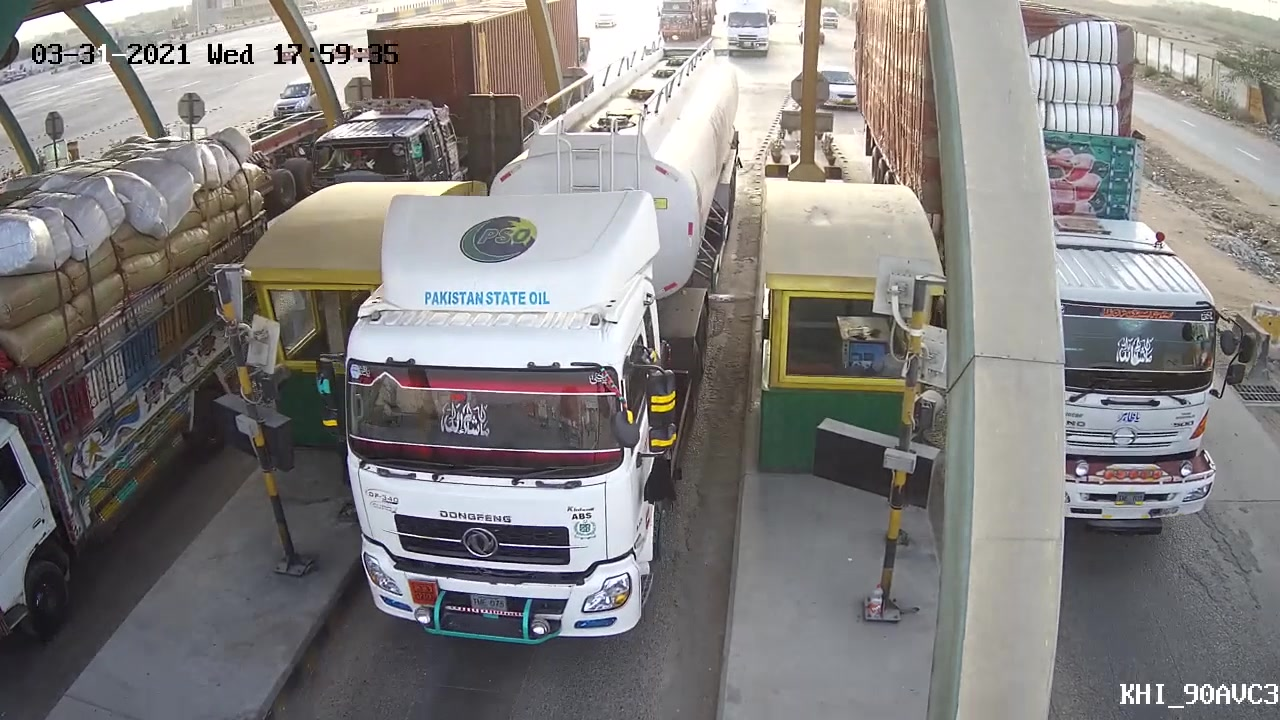F6: (333, 36, 761, 644)
